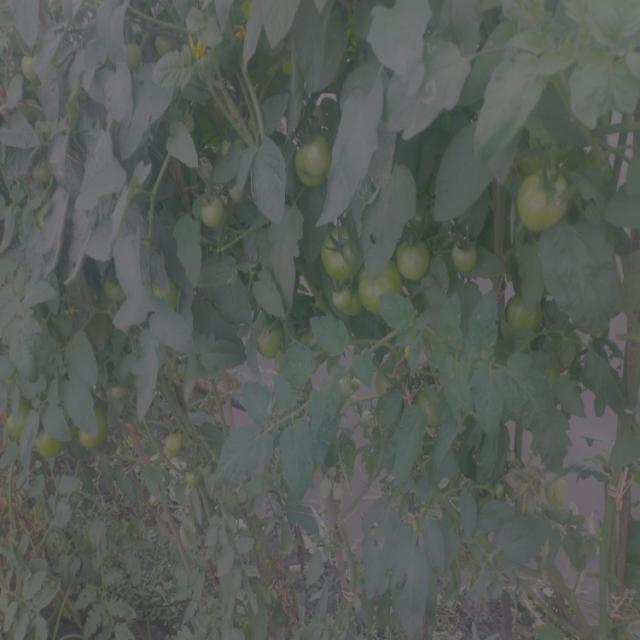tomato: (512, 168, 575, 236), (286, 137, 341, 191), (318, 229, 365, 278), (394, 237, 442, 283), (506, 290, 545, 341), (411, 384, 449, 436), (74, 407, 116, 453), (252, 323, 291, 360), (456, 235, 487, 276), (8, 389, 30, 445), (194, 193, 224, 234), (36, 427, 68, 463), (152, 33, 191, 62), (327, 290, 365, 319), (100, 272, 126, 309), (367, 272, 391, 312), (146, 280, 179, 309), (118, 45, 148, 74), (29, 158, 57, 189), (20, 54, 47, 85), (227, 178, 257, 203), (164, 430, 183, 461), (36, 118, 60, 142), (379, 367, 397, 399), (183, 466, 201, 492), (112, 384, 136, 400), (359, 413, 381, 430), (35, 211, 52, 229), (350, 376, 364, 396)
